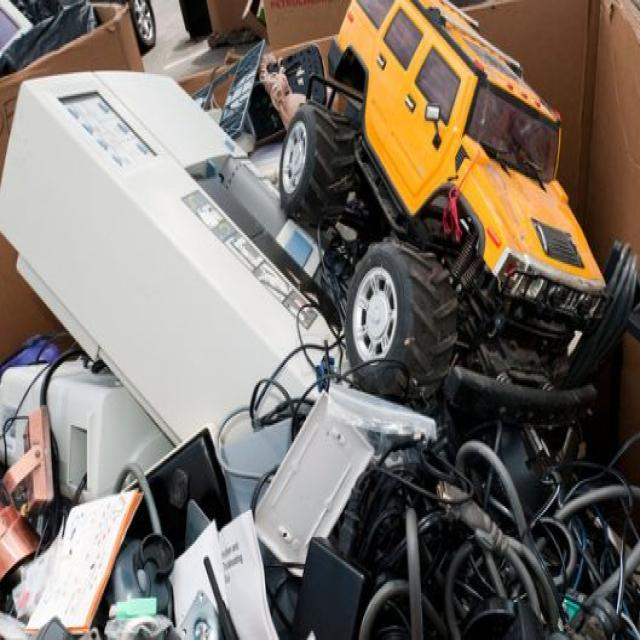electronic: (4, 58, 359, 496)
